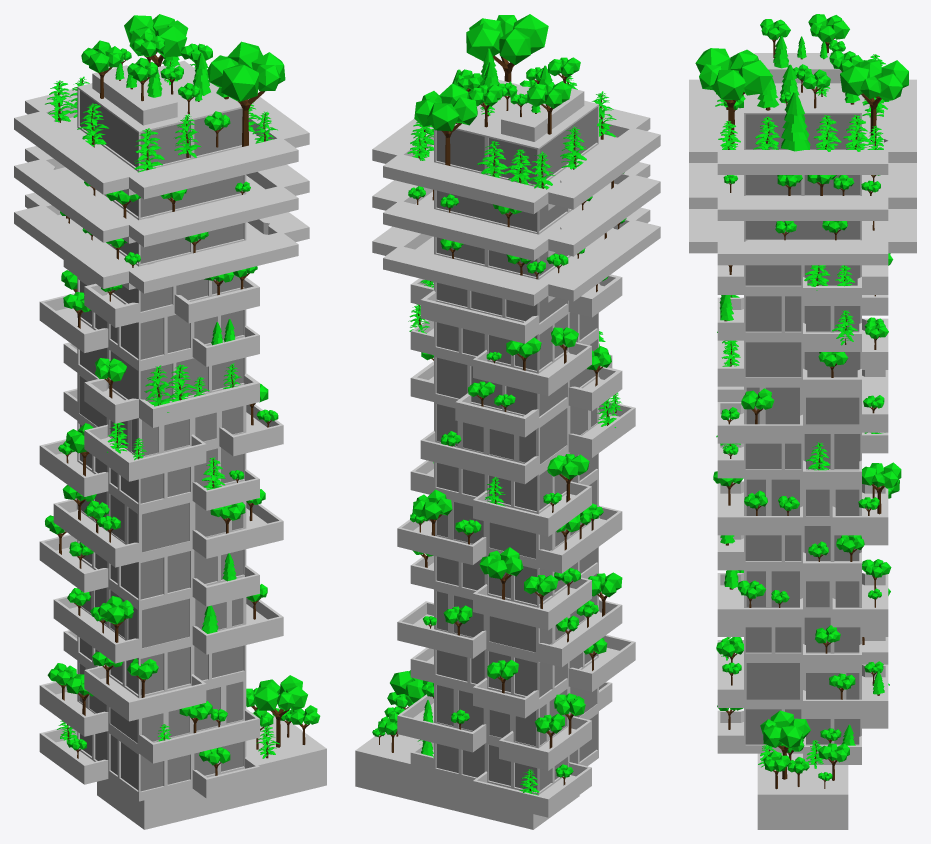
File: skyscraper.fbx
The picture shows the model from 3 angles, left to right: view 1: azimuth 30°, elevation 25°; view 2: azimuth 150°, elevation 25°; view 3: azimuth 270°, elevation 25°; orthographic projection. The views are drawn at different scales.
Visible parts, largest first — view 1: Cube.014, Cube.013, Cube.012, Cube.006, Cube.004, Cube.008, Cube.005, Cube.009, Cube.001, Cube.002, Cube.010, Cube.003 (+16 smaller); view 2: Cube.014, Cube.013, Cube.012, Cube.008, Cube.001, Cube.003, Cube.004, Cube.009, Cube.006, Cube.002, Cube.010, Cube.007 (+18 smaller); view 3: Cube.014, Cube.012, Cube.013, Cube.001, Cube.004, Cube.008, Cube.006, Cube.009, Cube.007, Cube.010, Cube.005, Cube (+22 smaller).
Part boxes in pixels (bbox=[...]): Cube.014: bbox=[14, 60, 309, 199]; Cube.013: bbox=[14, 146, 309, 247]; Cube.012: bbox=[14, 192, 309, 293]; Cube.006: bbox=[53, 491, 283, 567]; Cube.004: bbox=[53, 587, 283, 663]; Cube.008: bbox=[63, 373, 283, 481]; Cube.005: bbox=[39, 534, 259, 609]; Cube.009: bbox=[63, 342, 259, 427]; Cube.001: bbox=[39, 660, 259, 763]; Cube.002: bbox=[39, 726, 259, 801]; Cube.010: bbox=[39, 277, 259, 369]; Cube.003: bbox=[63, 630, 246, 721]; Cube.014: bbox=[372, 79, 660, 214]; Cube.013: bbox=[372, 162, 660, 260]; Cube.012: bbox=[372, 207, 660, 306]; Cube.008: bbox=[420, 401, 635, 484]; Cube.001: bbox=[397, 681, 612, 770]; Cube.003: bbox=[410, 635, 635, 718]; Cube.004: bbox=[397, 571, 622, 667]; Cube.009: bbox=[410, 337, 622, 437]; Cube.006: bbox=[397, 477, 622, 573]; Cube.002: bbox=[410, 711, 598, 817]; Cube.010: bbox=[410, 312, 598, 396]; Cube.007: bbox=[410, 452, 598, 536]; Cube.014: bbox=[689, 53, 916, 174]; Cube.012: bbox=[689, 209, 916, 265]; Cube.013: bbox=[689, 163, 916, 220]; Cube.001: bbox=[717, 637, 888, 718]; Cube.004: bbox=[717, 570, 888, 627]; Cube.008: bbox=[717, 370, 888, 443]; Cube.006: bbox=[717, 478, 888, 535]; Cube.009: bbox=[717, 318, 888, 397]; Cube.007: bbox=[717, 432, 888, 489]; Cube.010: bbox=[717, 295, 888, 351]; Cube.005: bbox=[717, 524, 888, 581]; Cube: bbox=[757, 753, 848, 829].
Bounding box in the file's own units: 1546 × 1296 × 4595.
